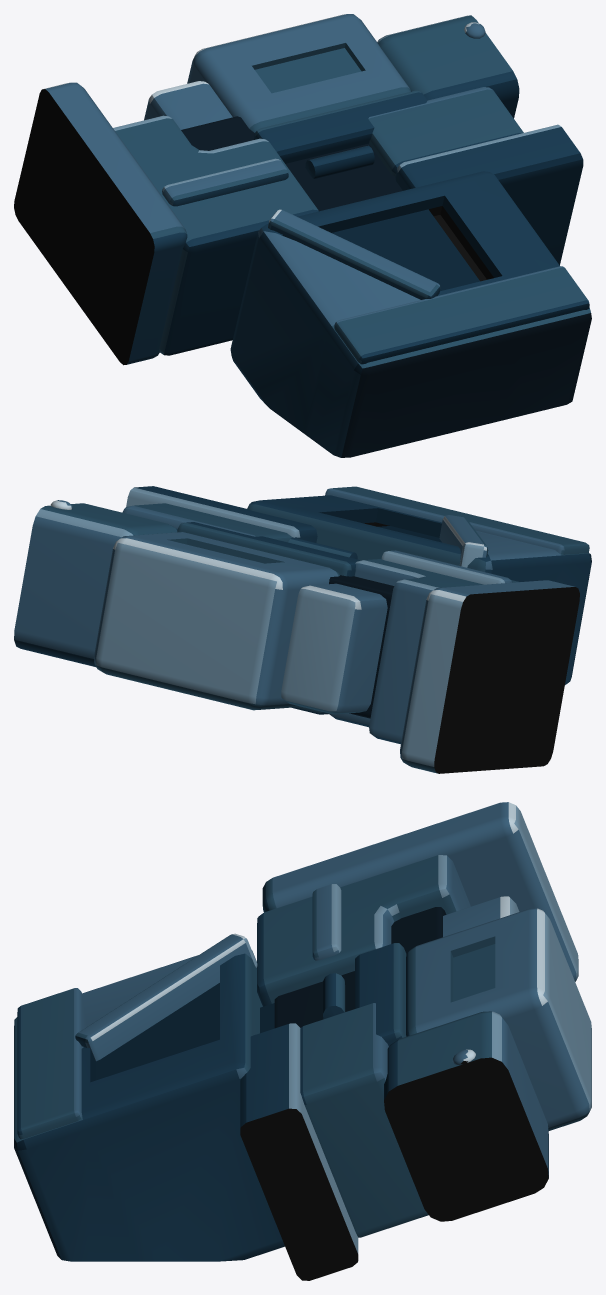
File: deli_cannon_mount.glb
3 renders of one model, top to bottom at view 1: azimuth 30°, elevation 25°; view 2: azimuth 150°, elevation 25°; view 3: azimuth 270°, elevation 25°, orthographic. The views are drawn at different scales.
Visible parts, largest first — view 1: trunnion.001, rear_block.001, lower_box.001, sight.001, base_strip.001, ledge.001, hull.001, lower_block.001, core.001, sight_base.001, strut.001, rail.001 (+2 smaller); view 2: sight.001, rear_block.001, hull.001, trunnion.001, small_box.001, lower_box.001, base_strip.001, ledge.001, sight_base.001, lower_block.001, rail.001, strut.001 (+2 smaller); view 3: trunnion.001, hull.001, sight.001, lower_block.001, ledge.001, rear_block.001, lower_box.001, base_strip.001, strut.001, sight_base.001, core.001, rail.001 (+2 smaller).
Part boxes in pixels (x1,y1,x2,y2): trunnion.001: (230, 171, 591, 457); rear_block.001: (14, 82, 187, 365); lower_box.001: (113, 115, 318, 355); sight.001: (187, 14, 410, 132); base_strip.001: (334, 266, 589, 364); ledge.001: (395, 124, 583, 265); hull.001: (377, 15, 519, 118); lower_block.001: (368, 87, 523, 176); core.001: (181, 91, 411, 211); sight_base.001: (254, 90, 427, 163); strut.001: (268, 209, 440, 299); rail.001: (162, 158, 288, 206); sight.001: (94, 532, 339, 710); rear_block.001: (400, 580, 579, 773); hull.001: (14, 503, 177, 666); trunnion.001: (247, 495, 591, 684); small_box.001: (281, 583, 387, 714); lower_box.001: (329, 559, 518, 744); base_strip.001: (325, 486, 589, 554); ledge.001: (126, 486, 317, 542); sight_base.001: (177, 522, 361, 714); lower_block.001: (122, 503, 292, 542); rail.001: (381, 550, 512, 584); strut.001: (439, 515, 488, 567); trunnion.001: (14, 950, 284, 1261); hull.001: (384, 1011, 548, 1221); sight.001: (406, 908, 591, 1130); lower_block.001: (300, 1003, 428, 1237); ledge.001: (240, 1023, 358, 1280); rear_block.001: (262, 802, 578, 981); lower_box.001: (257, 855, 470, 1006); base_strip.001: (17, 988, 81, 1139); strut.001: (75, 933, 257, 1061); sight_base.001: (355, 943, 406, 1046); core.001: (274, 907, 446, 1036); rail.001: (312, 884, 341, 960).
Size of the model in its own units: 24 by 13.54 by 25.52.
